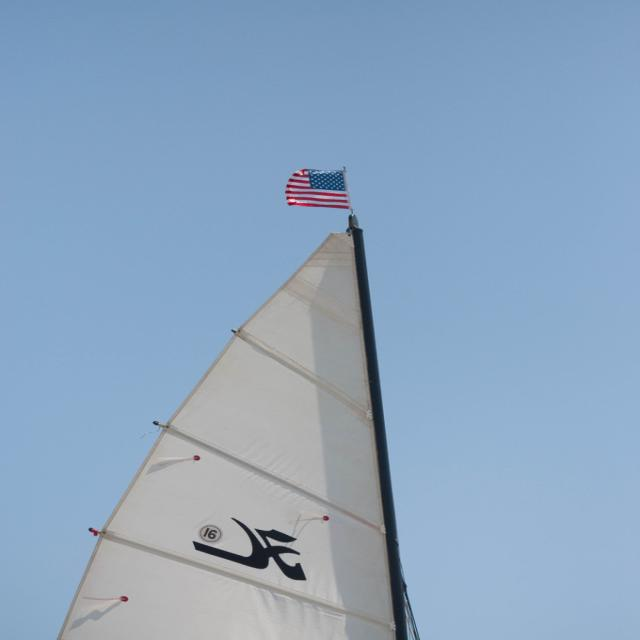Boat: (36, 163, 450, 640)
